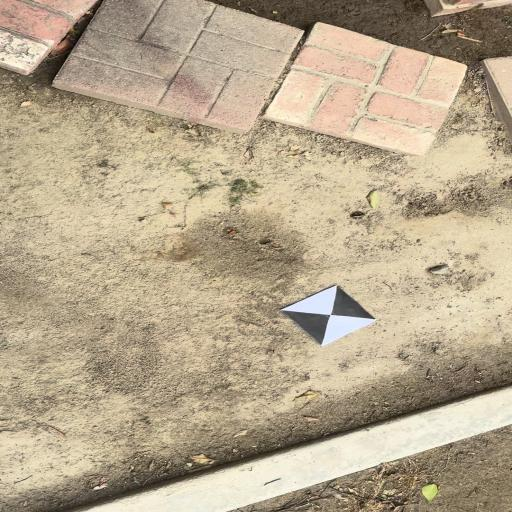target: (281, 285, 378, 345)
